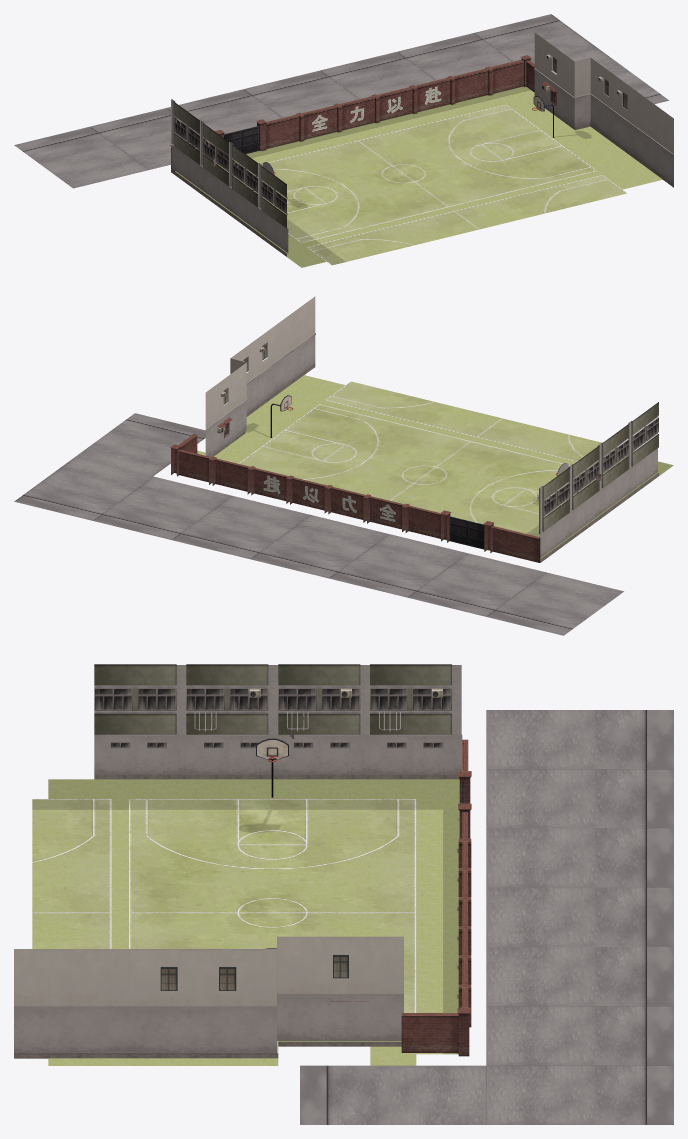
File: court_chinese_mesh.fbx
3 views of the same model, one above another, from view 1: azimuth 30°, elevation 25°; view 2: azimuth 150°, elevation 25°; view 3: azimuth 270°, elevation 25° (orthographic). The views are drawn at different scales.
Parts seen in each view (by area): view 1: court_chinese_mesh; view 2: court_chinese_mesh; view 3: court_chinese_mesh.
Boxes of the visible parts, x1,y1,x2,y2 form: court_chinese_mesh: (14,14,673,267); court_chinese_mesh: (14,296,673,635); court_chinese_mesh: (14,664,673,1124).
Bounding box in the file's own units: 171 × 22.18 × 115.
